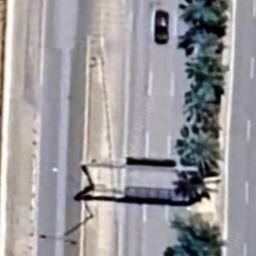sedan: (154, 9, 170, 44)
